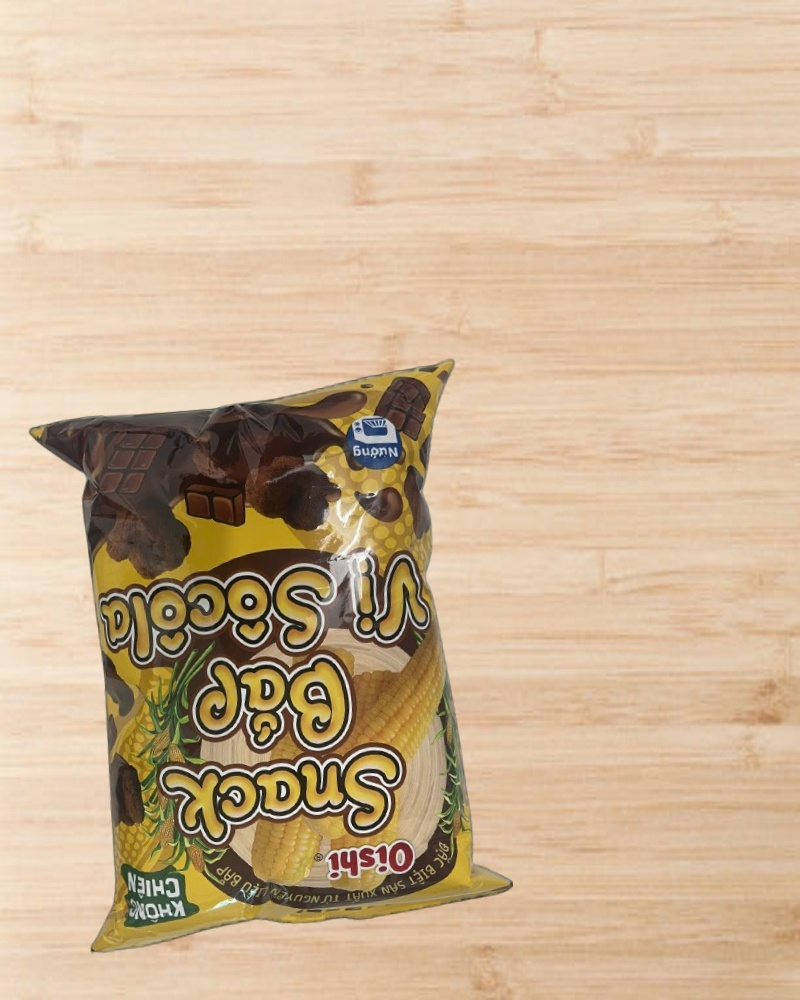Snack socola: (29, 361, 516, 953)
